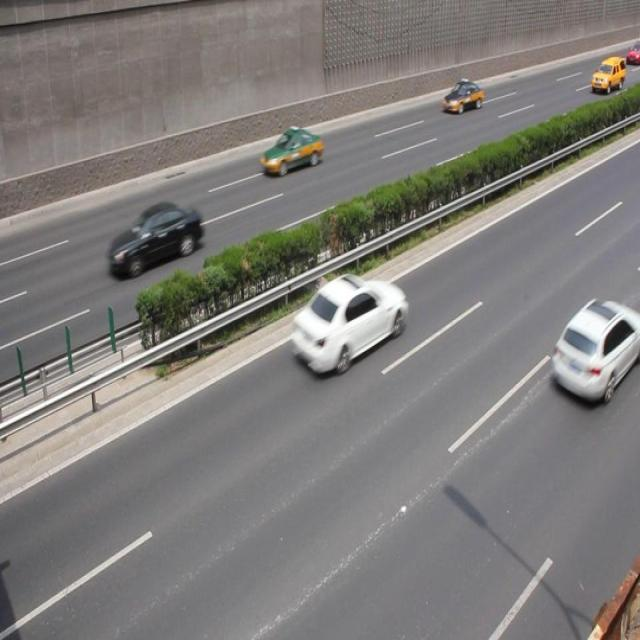car: (291, 271, 407, 376), (550, 299, 631, 405), (109, 198, 203, 278), (262, 126, 322, 176), (440, 78, 482, 114)
